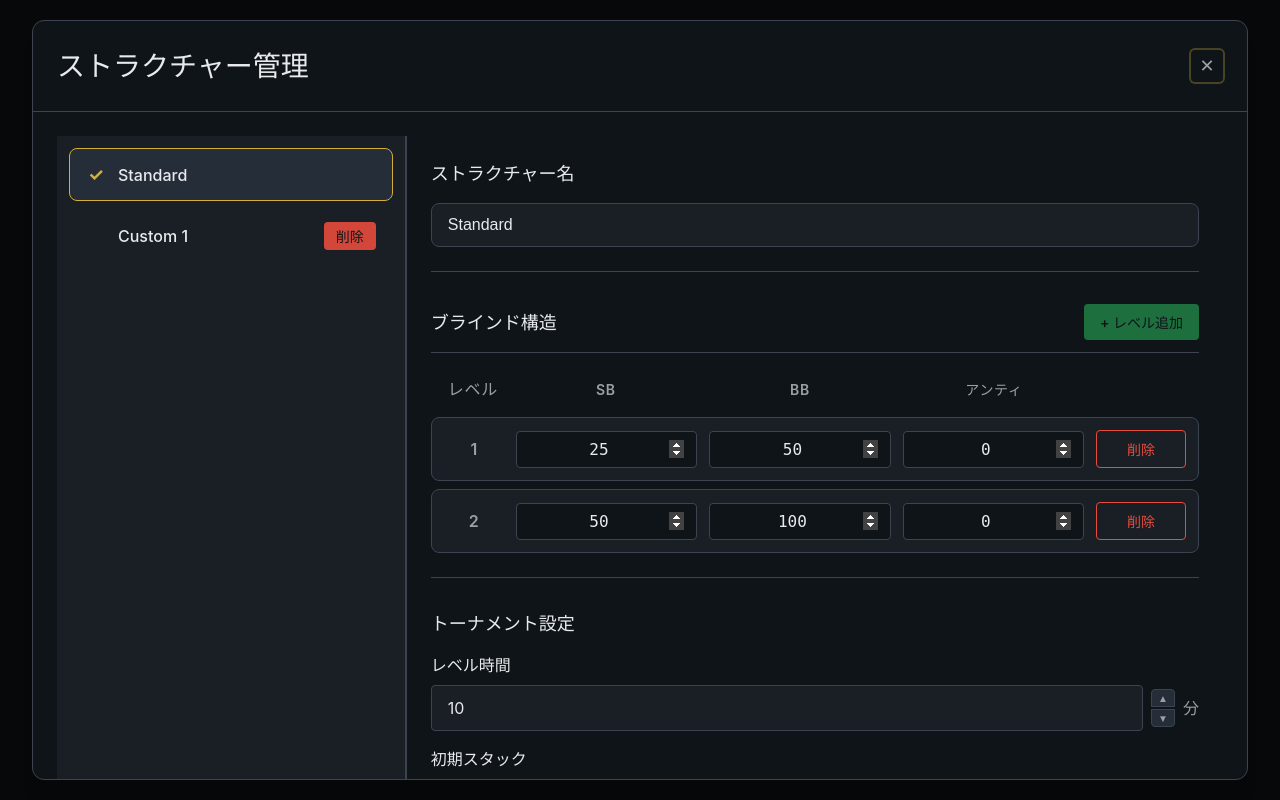
Scenario: StructureManagementModal › 削除キャンセルでダイアログが閉じる
Click the button with test id "delete-structure-button". click: [350, 236]
box: [324, 222, 376, 250]
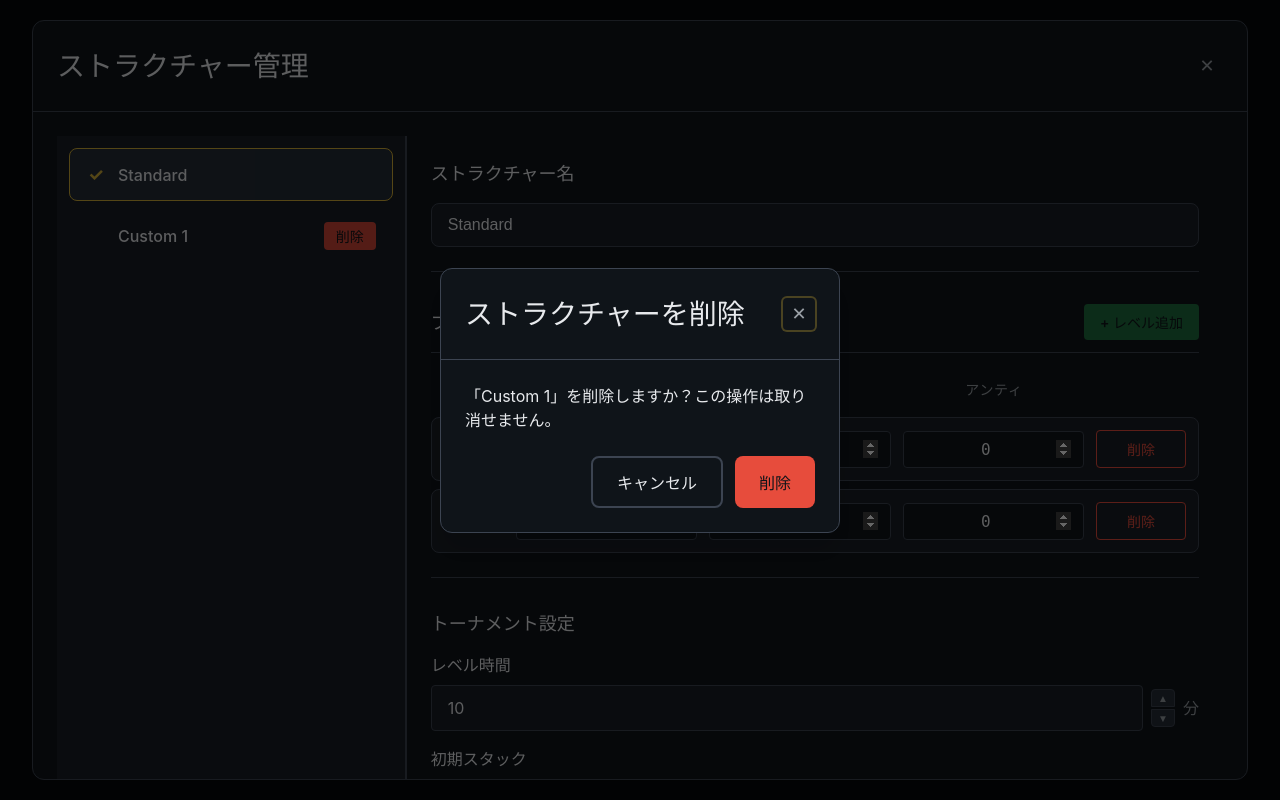
Check: the heading "ストラクチャーを削除" is shown, box [465, 292, 745, 334]
Click the button with test id "cancel-button". click: [657, 482]
box: [591, 456, 723, 508]
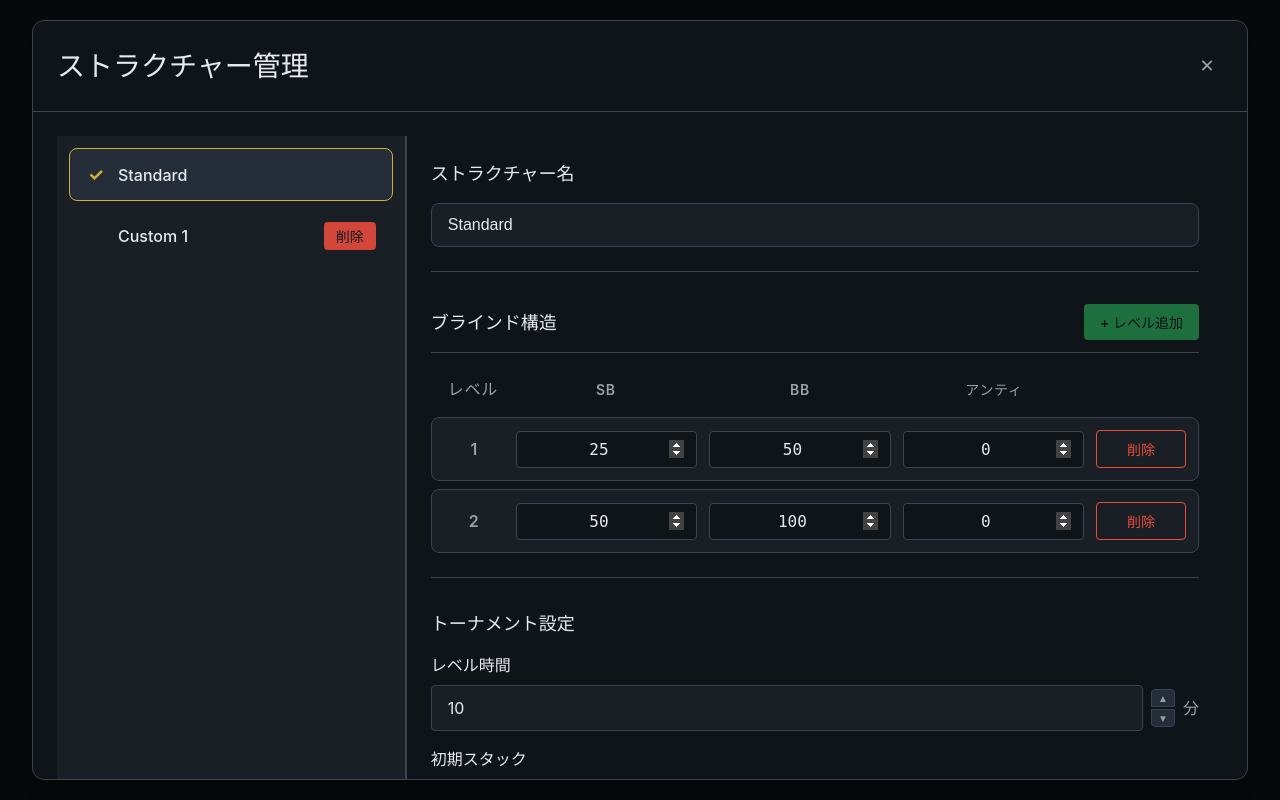
Check: the heading "ストラクチャーを削除" is gone
